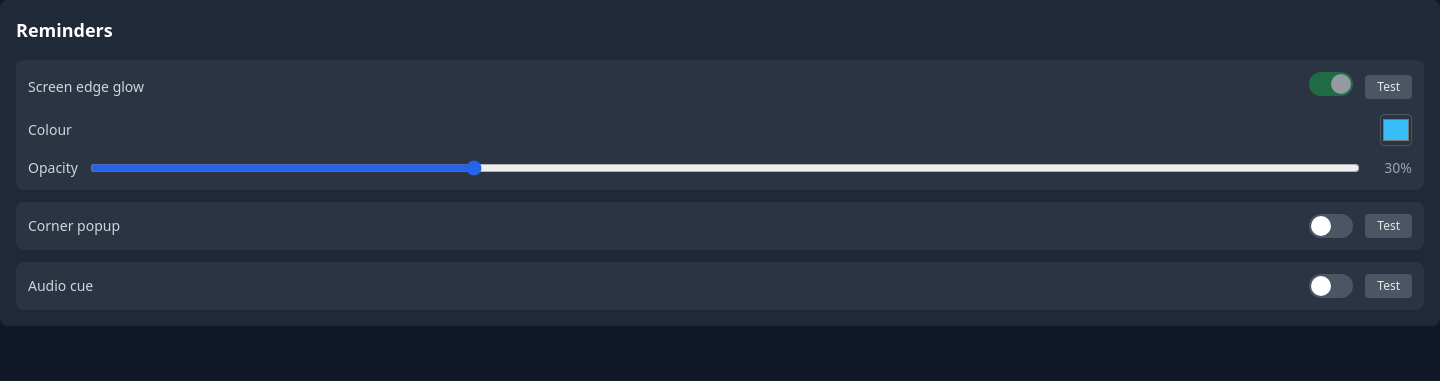
Test: ReminderSettingsPanel › unlocks the previously-last toggle when another is enabled
Expected: the text "Screen edge glow" is shown, top-left (28, 77), bottom-right (144, 96)
Expected: the button without text in the row of "Screen edge glow" is disabled, top-left (1309, 72), bottom-right (1353, 96)
# Second toggle (corner popup) is disabled-state but not locked - click to enable it
What coordinates should you click on to do the following:
click the button without text in the row of "Corner popup"
I would click on:
 (1331, 226)
Its box is top-left (1309, 214), bottom-right (1353, 238).
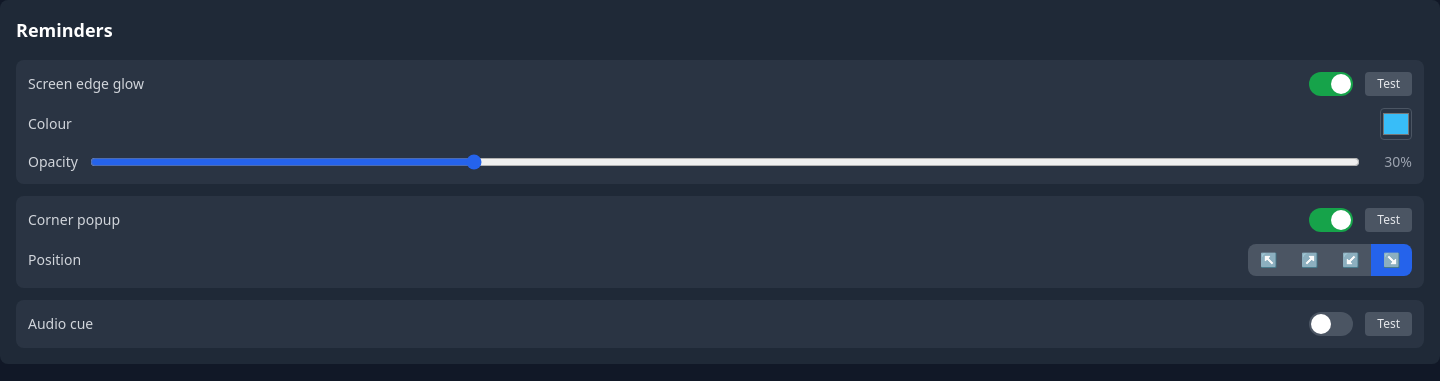
Expected: the button without text in the row of "Screen edge glow" is enabled, top-left (1309, 72), bottom-right (1353, 96)
